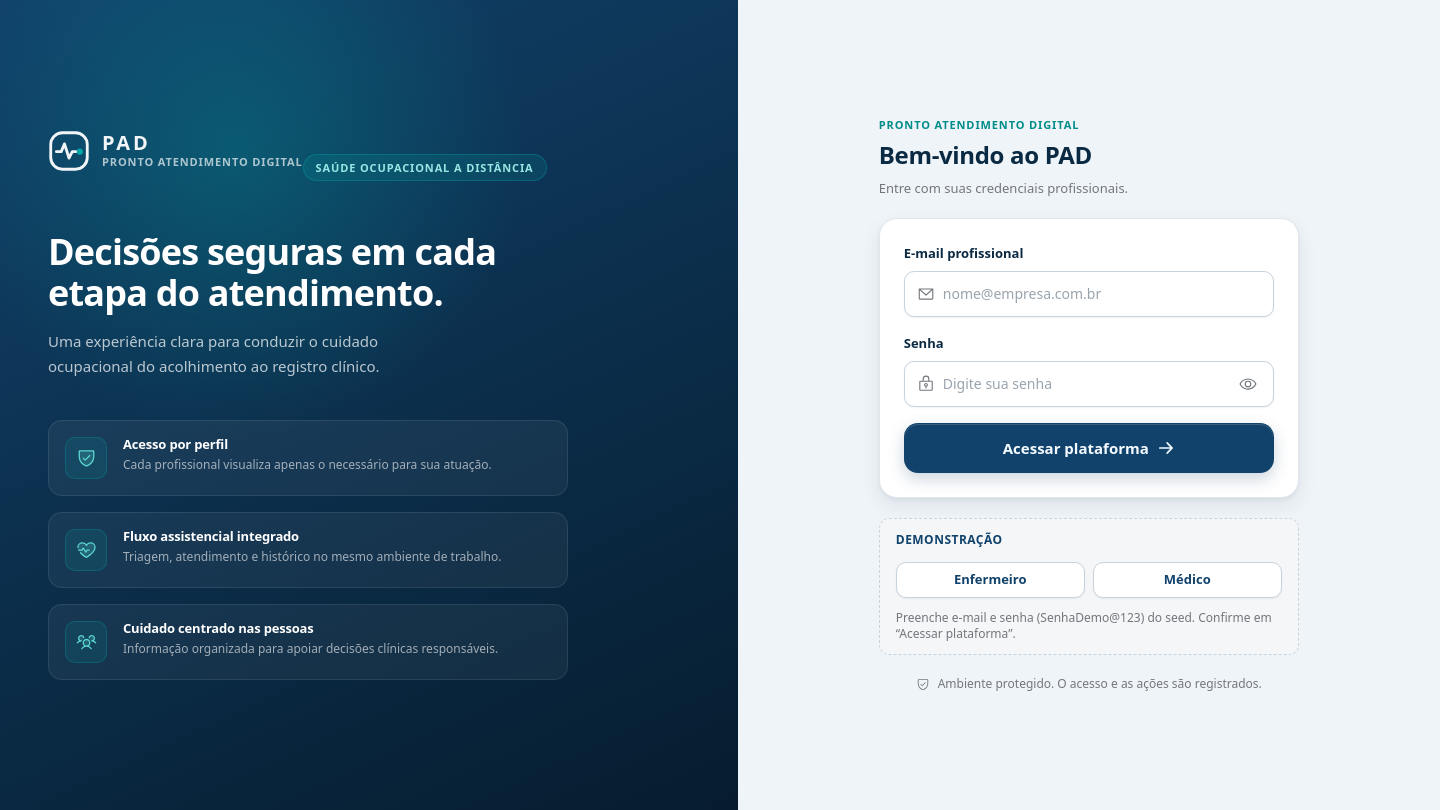
LoginPage › valida os campos antes de enviar
Click the button "Acessar plataforma".
click(1089, 448)  # box [904,423,1274,473]
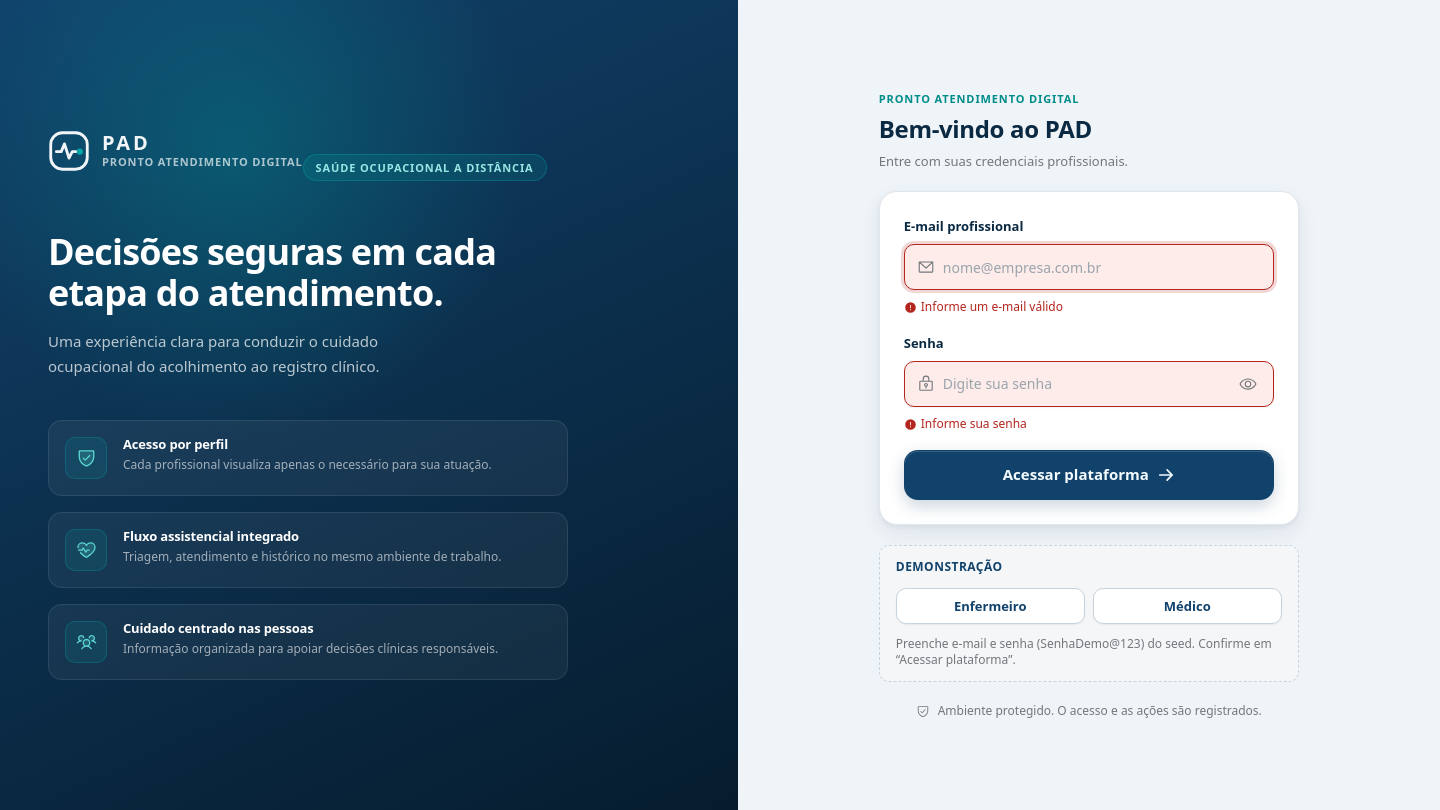
expect the text "Informe um e-mail válido" is shown: met, box [904,298,1063,315]
expect the text "Informe sua senha" is shown: met, box [904,415,1027,432]
